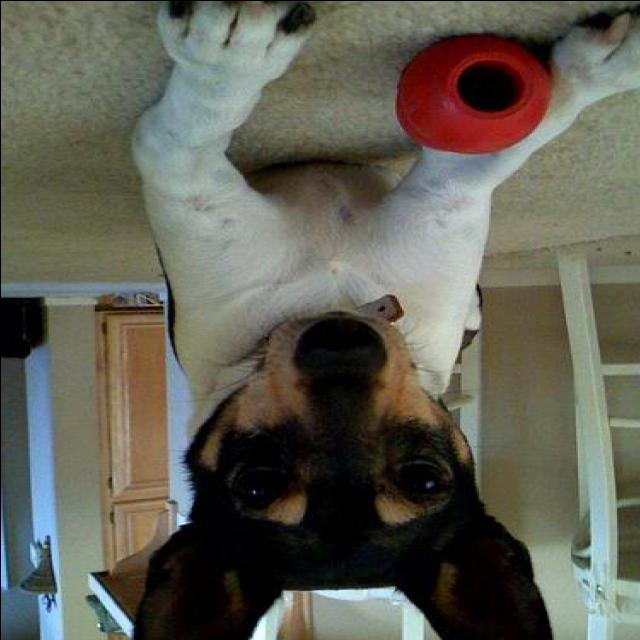toy_terrier: (127, 2, 638, 638)
